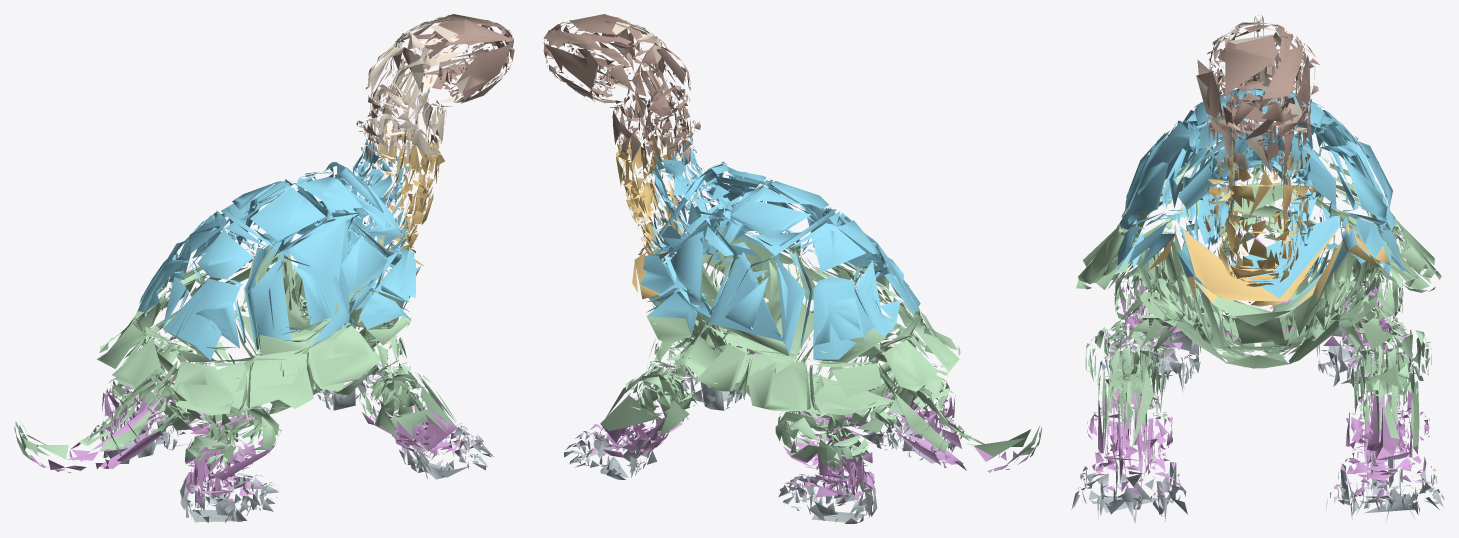
The model's file is statue_segmented.glb.
3 renders of one model, left to right at view 1: azimuth 30°, elevation 25°; view 2: azimuth 150°, elevation 25°; view 3: azimuth 270°, elevation 25°, orthographic. The views are drawn at different scales.
Parts seen in each view (by area): view 1: Part_02_Thân, Part_03_Thân, Part_05_Chân, Part_00_Đầu, Part_01_Tóc, Part_07_Đế, Part_04_Tay; view 2: Part_03_Thân, Part_02_Thân, Part_01_Tóc, Part_05_Chân, Part_07_Đế, Part_04_Tay, Part_00_Đầu; view 3: Part_03_Thân, Part_02_Thân, Part_04_Tay, Part_05_Chân, Part_01_Tóc, Part_07_Đế, Part_00_Đầu.
Boxes of the visible parts, bbox=[...] form: Part_02_Thân: bbox=[137, 139, 420, 360]; Part_03_Thân: bbox=[14, 241, 456, 468]; Part_05_Chân: bbox=[31, 363, 475, 504]; Part_00_Đầu: bbox=[358, 21, 474, 164]; Part_01_Tóc: bbox=[356, 14, 514, 164]; Part_07_Đế: bbox=[99, 363, 493, 523]; Part_04_Tay: bbox=[361, 119, 444, 275]; Part_03_Thân: bbox=[600, 228, 1042, 475]; Part_02_Thân: bbox=[639, 138, 920, 359]; Part_01_Tóc: bbox=[543, 14, 700, 164]; Part_05_Chân: bbox=[575, 343, 1029, 505]; Part_07_Đế: bbox=[564, 366, 957, 523]; Part_04_Tay: bbox=[616, 131, 761, 313]; Part_00_Đầu: bbox=[599, 21, 700, 154]; Part_03_Thân: bbox=[1076, 148, 1441, 449]; Part_02_Thân: bbox=[1110, 88, 1409, 311]; Part_04_Tay: bbox=[1148, 145, 1398, 304]; Part_05_Chân: bbox=[1087, 206, 1432, 499]; Part_01_Tóc: bbox=[1196, 15, 1319, 171]; Part_07_Đế: bbox=[1071, 325, 1444, 523]; Part_00_Đầu: bbox=[1196, 16, 1318, 173].
Bounding box in the file's own units: 2.12 × 1.59 × 1.07.
